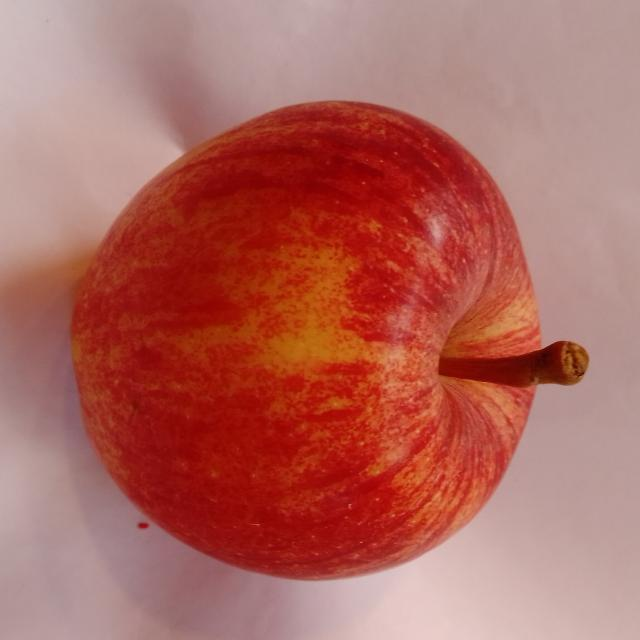Fresh Apple: (71, 103, 542, 585)
